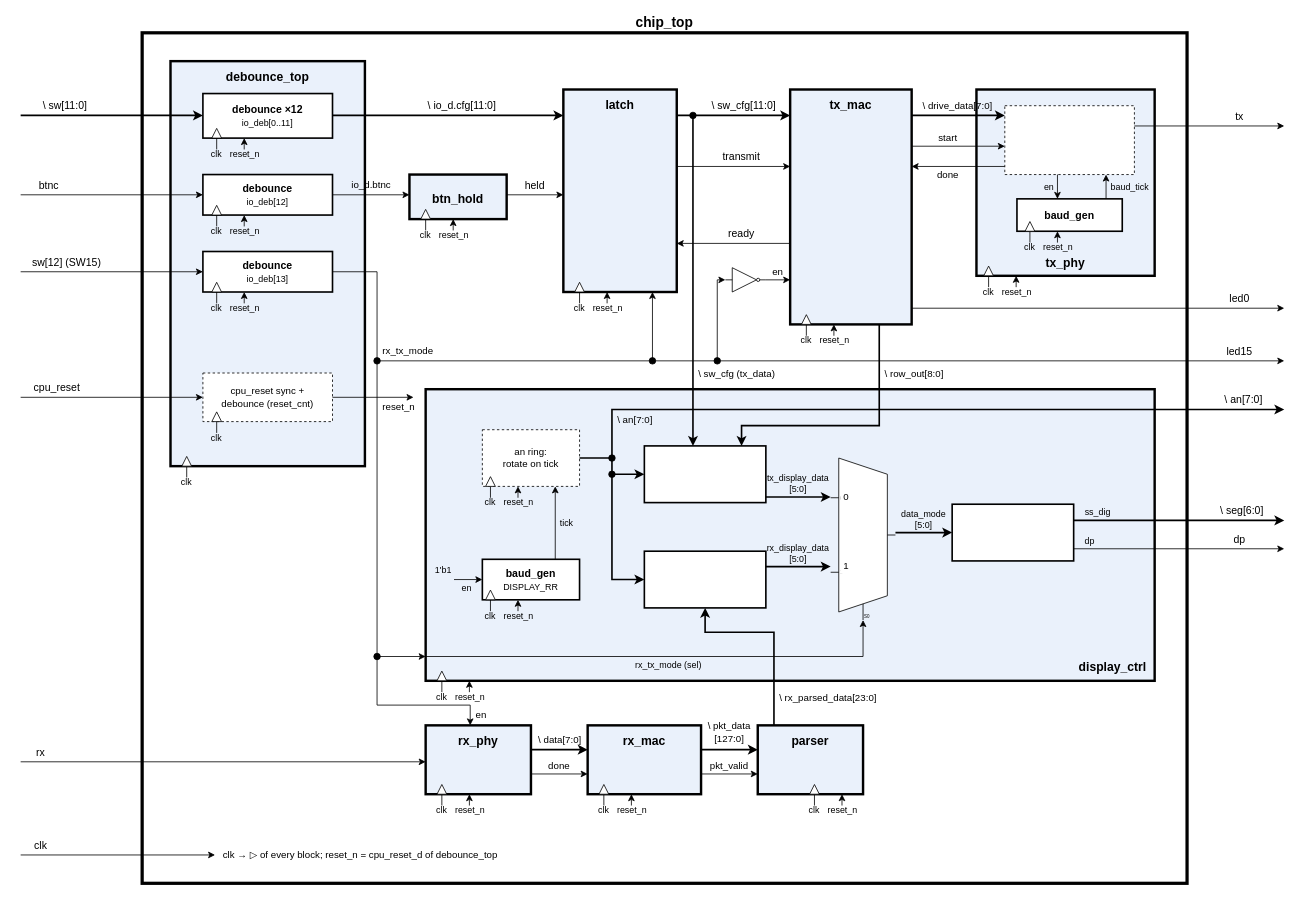
Image size: 1305x898. Some labels were removed from this diagram. Here are the shapes that lost their labels. From the top down, the centre of each, then its label:
At (1069,140): "FSM IDLE / TRANSMIT, cnt, sh_reg[9:0]".
At (704,474): "tx_display".
At (1012,532): "seven_segment".
At (704,579): "rx_display".
